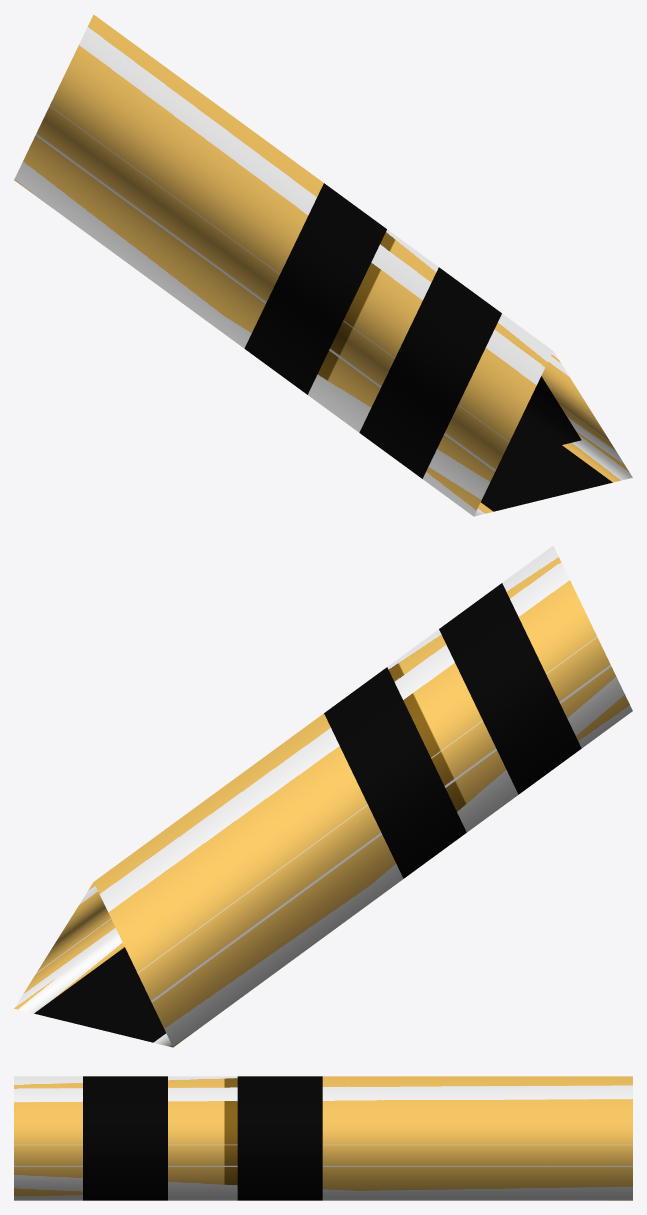
3 views of the same model, one above another, from view 1: azimuth 30°, elevation 25°; view 2: azimuth 150°, elevation 25°; view 3: azimuth 270°, elevation 25° (orthographic). The views are drawn at different scales.
Visible parts, largest first — view 1: Plane004; view 2: Plane004; view 3: Plane004.
Boxes of the visible parts, box(x1,y1,x2,y2) form: Plane004: box(14, 14, 632, 516); Plane004: box(14, 545, 632, 1047); Plane004: box(14, 1076, 632, 1200).
Bounding box in the file's own units: 80 × 70.22 × 400.
4 materials, 1 textured.
